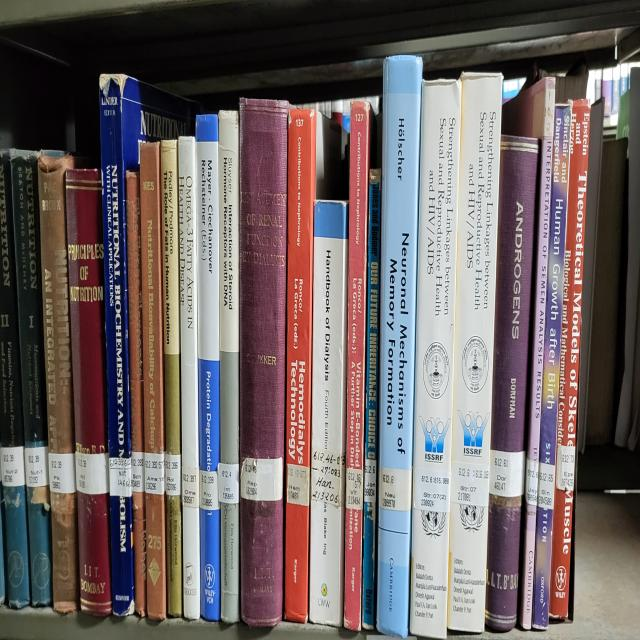Book: (100, 73, 195, 614), (448, 73, 502, 630), (501, 78, 555, 630), (285, 108, 341, 622), (410, 81, 461, 639), (376, 57, 422, 639), (485, 135, 539, 630), (240, 100, 289, 625), (550, 100, 590, 617), (532, 106, 571, 630), (65, 170, 111, 614), (38, 154, 80, 614), (310, 200, 348, 625), (344, 100, 371, 630), (0, 152, 30, 606), (140, 141, 166, 620), (196, 114, 220, 620), (10, 152, 48, 446), (219, 111, 240, 622), (178, 135, 200, 620), (160, 141, 182, 614), (126, 170, 146, 617), (362, 170, 381, 628)
Label: (311, 449, 345, 506), (240, 457, 282, 501), (489, 449, 525, 498), (451, 463, 489, 506), (414, 468, 450, 511), (75, 452, 109, 495), (380, 468, 412, 511), (49, 452, 76, 492), (286, 463, 310, 506), (0, 446, 25, 487), (25, 446, 49, 487), (144, 452, 165, 495), (109, 457, 131, 498), (556, 444, 575, 490), (218, 463, 239, 503), (538, 463, 555, 509), (346, 468, 364, 511), (200, 471, 219, 511), (182, 465, 199, 509), (165, 452, 181, 495), (525, 460, 539, 506), (131, 452, 145, 492), (364, 460, 376, 503)
